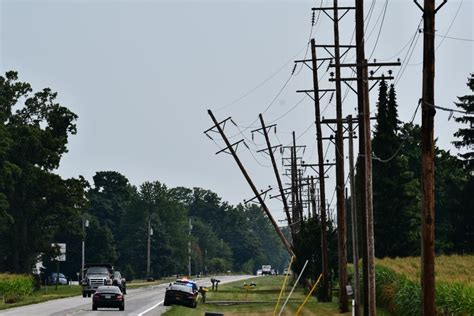pole: (200, 101, 319, 290), (403, 2, 456, 316)
